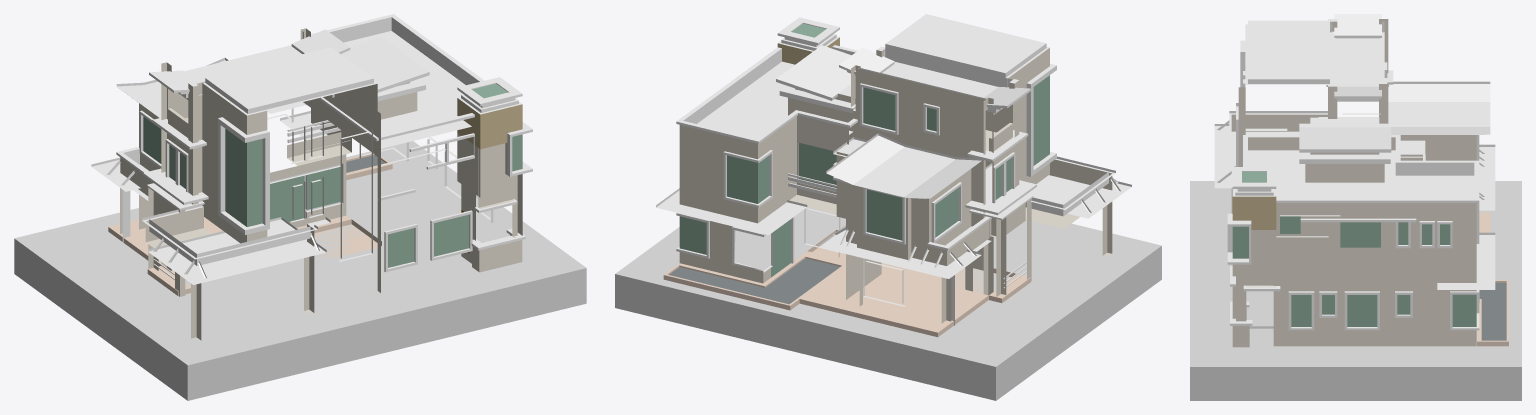
3 renders of one model, left to right at view 1: azimuth 30°, elevation 25°; view 2: azimuth 150°, elevation 25°; view 3: azimuth 270°, elevation 25°, orthographic. The views are drawn at different scales.
Visible parts, largest first — view 1: bungalow-2; view 2: bungalow-2; view 3: bungalow-2.
Boxes of the visible parts, x1,y1,x2,y2 form: bungalow-2: (14, 14, 586, 400); bungalow-2: (615, 14, 1161, 400); bungalow-2: (1190, 14, 1521, 400).
Size of the model in its own units: 0.2582 by 0.153 by 0.1946.
